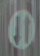Two way: (3, 5, 38, 49)
